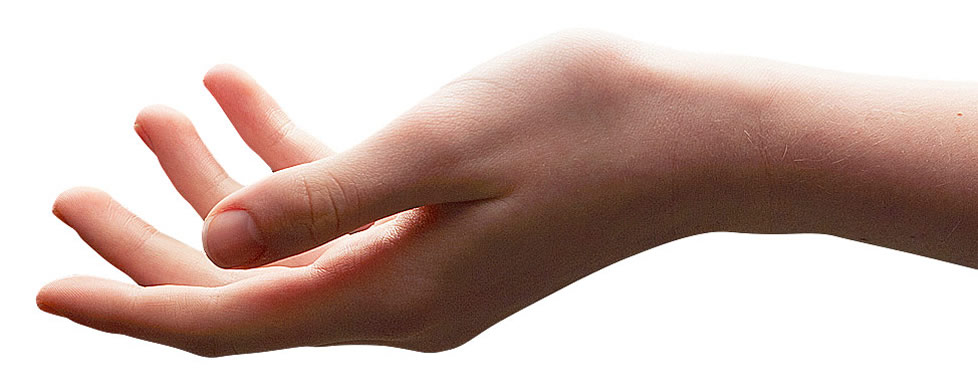finger: (121, 98, 352, 262), (43, 182, 343, 303), (25, 269, 439, 350), (196, 54, 334, 182)
